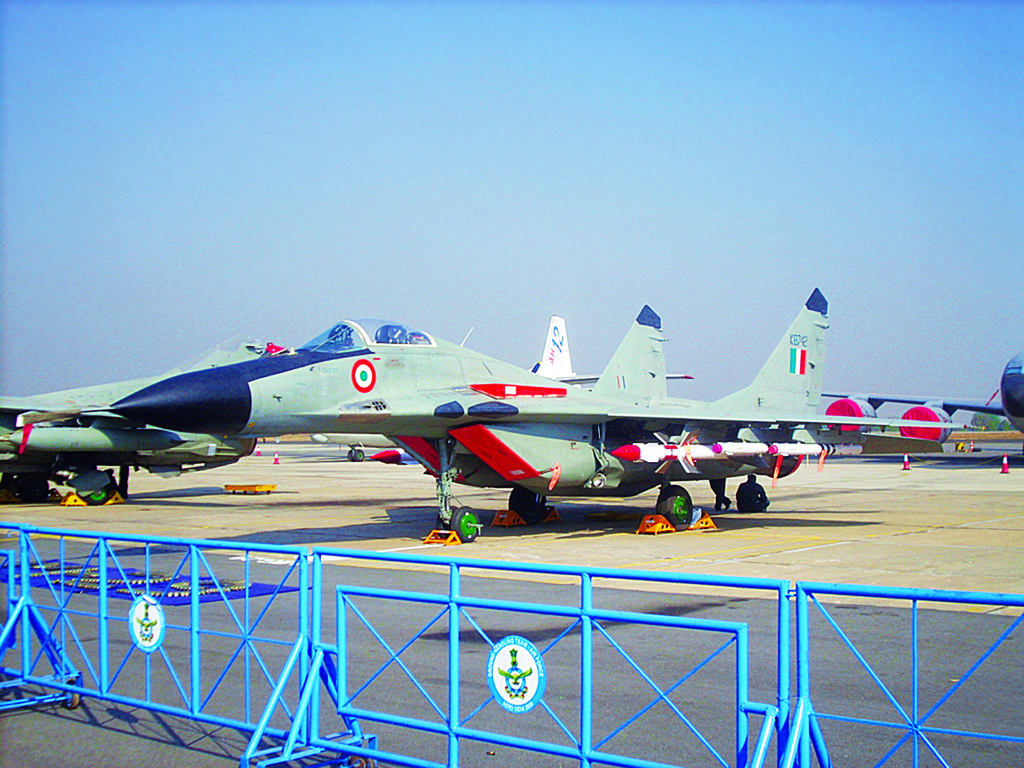Mig-29: (84, 282, 912, 568)
